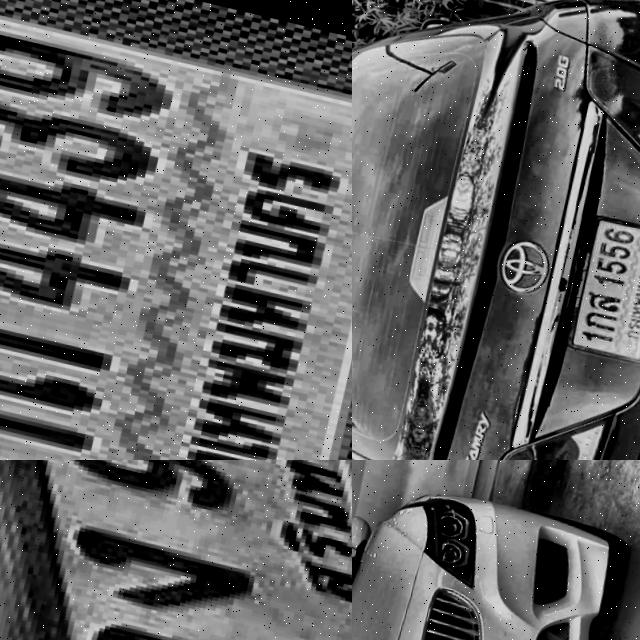license-plate: (0, 0, 352, 460), (0, 460, 352, 640), (561, 207, 640, 363)
